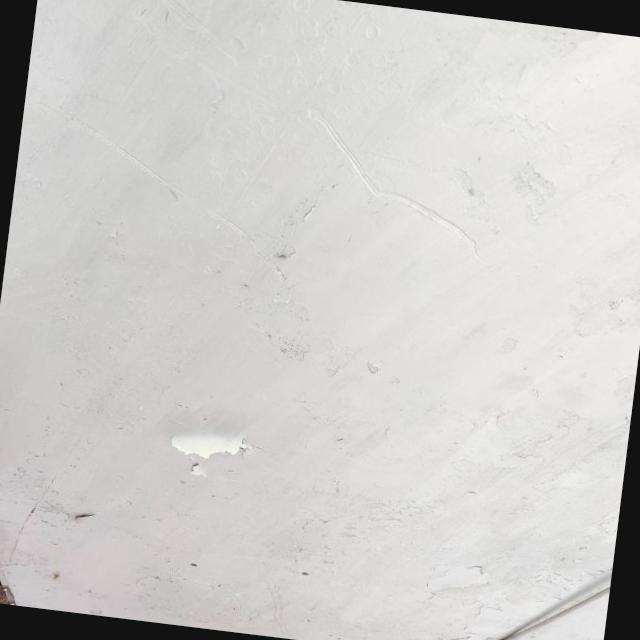paint-off: (156, 407, 262, 494)
scratch: (280, 88, 512, 279), (37, 89, 206, 204), (190, 187, 300, 286), (103, 0, 251, 71)
